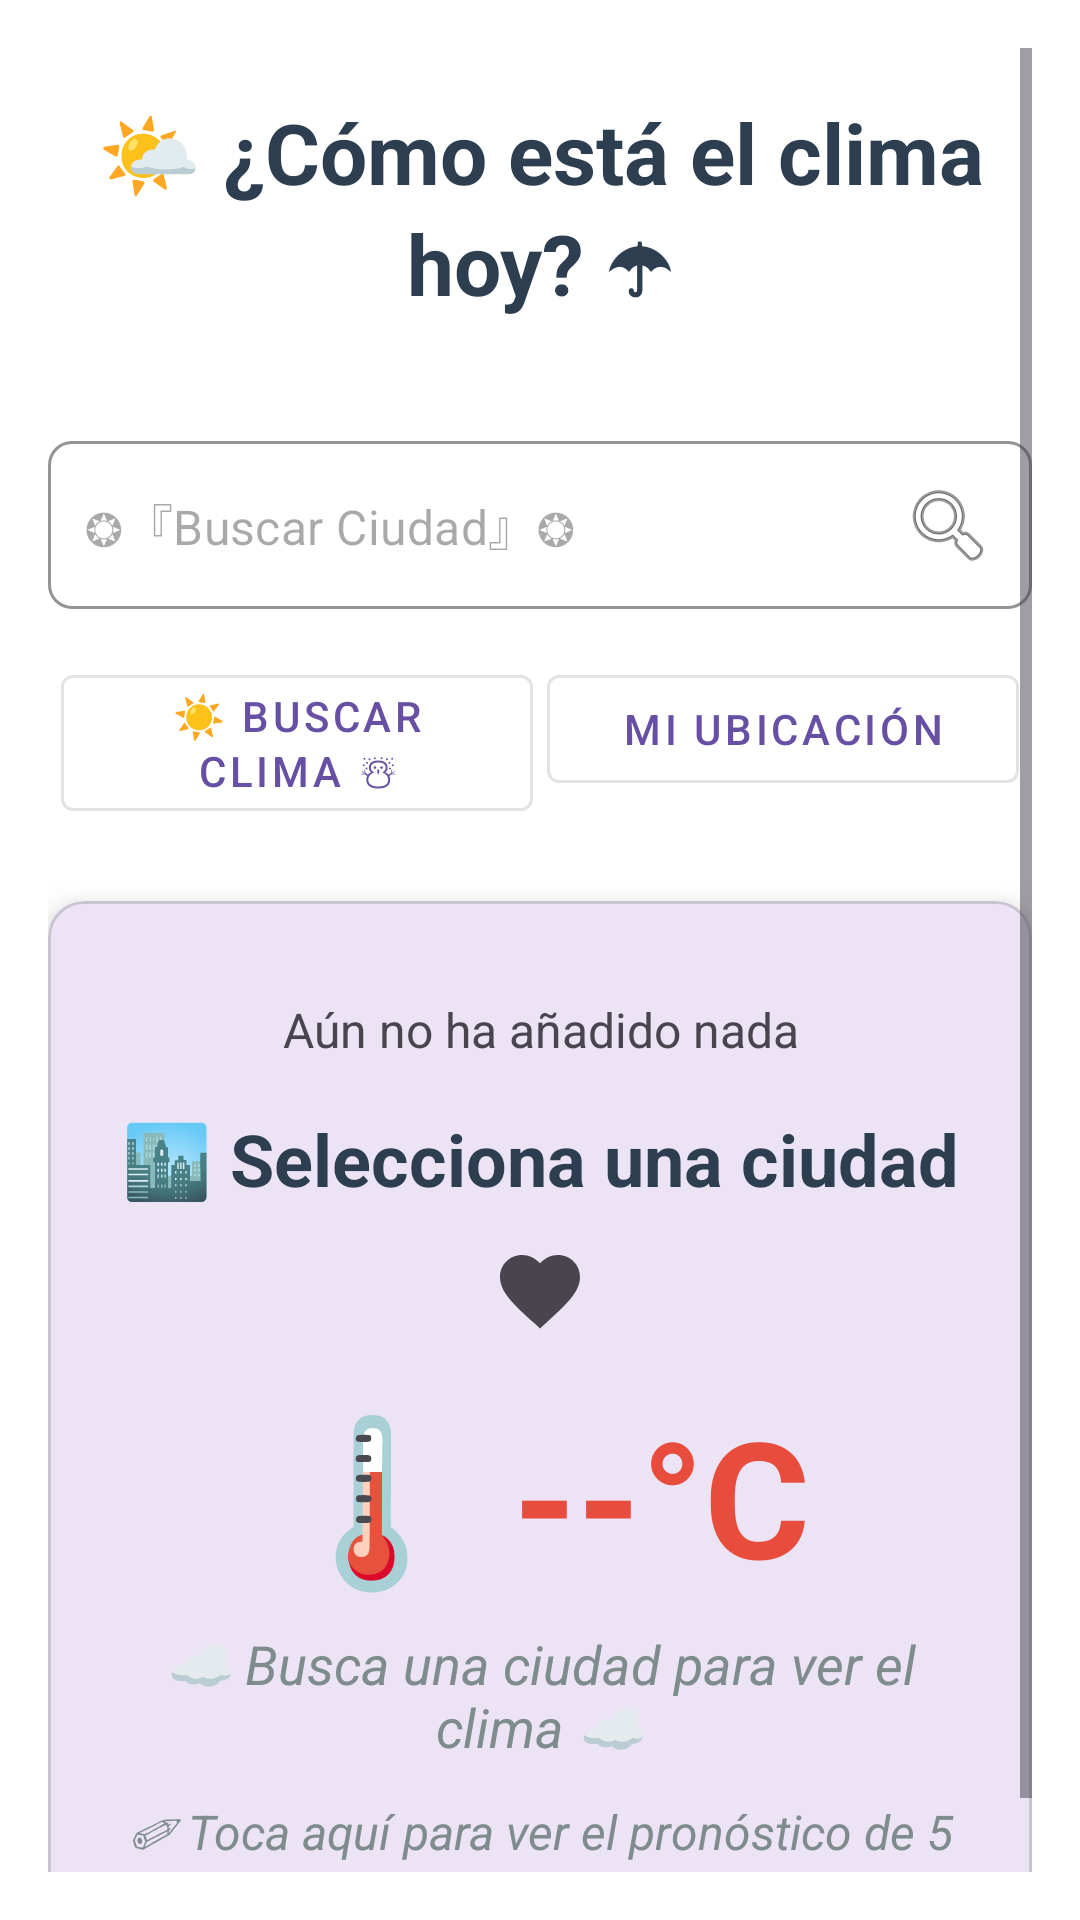

Screen size 1080px x 1920px. Icon name, then its center in pixels as [x,y]:
Marcar como favorito: [540,1291]
